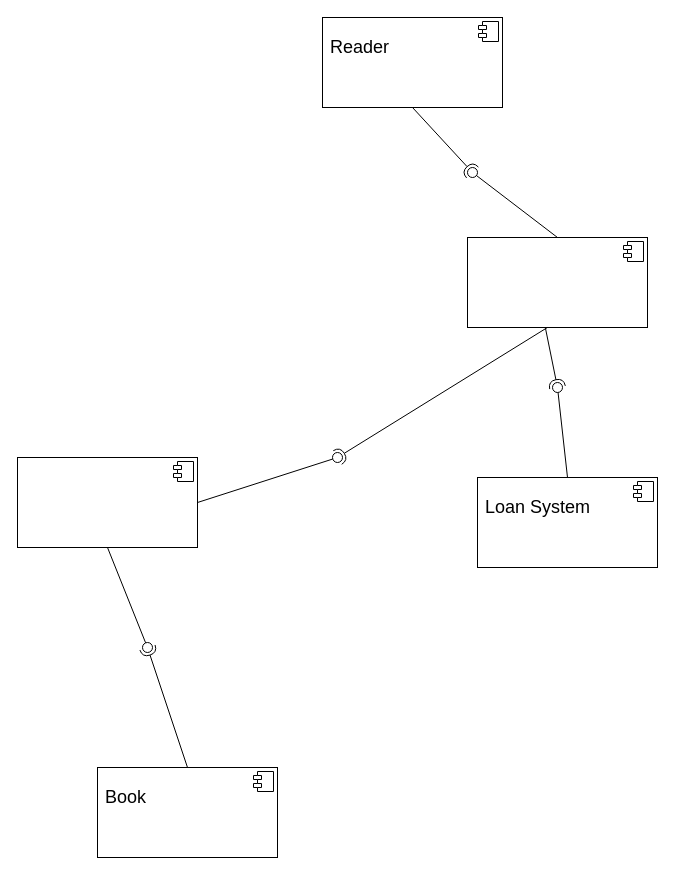
Some shapes in this 675 by 875 pixel diagram are drawn without their labels. Here are the shapes that lost their labels. From the top down, the centre of each, then its label:
At (x=557, y=282): "Librarian".
At (x=107, y=502): "Catalog".
